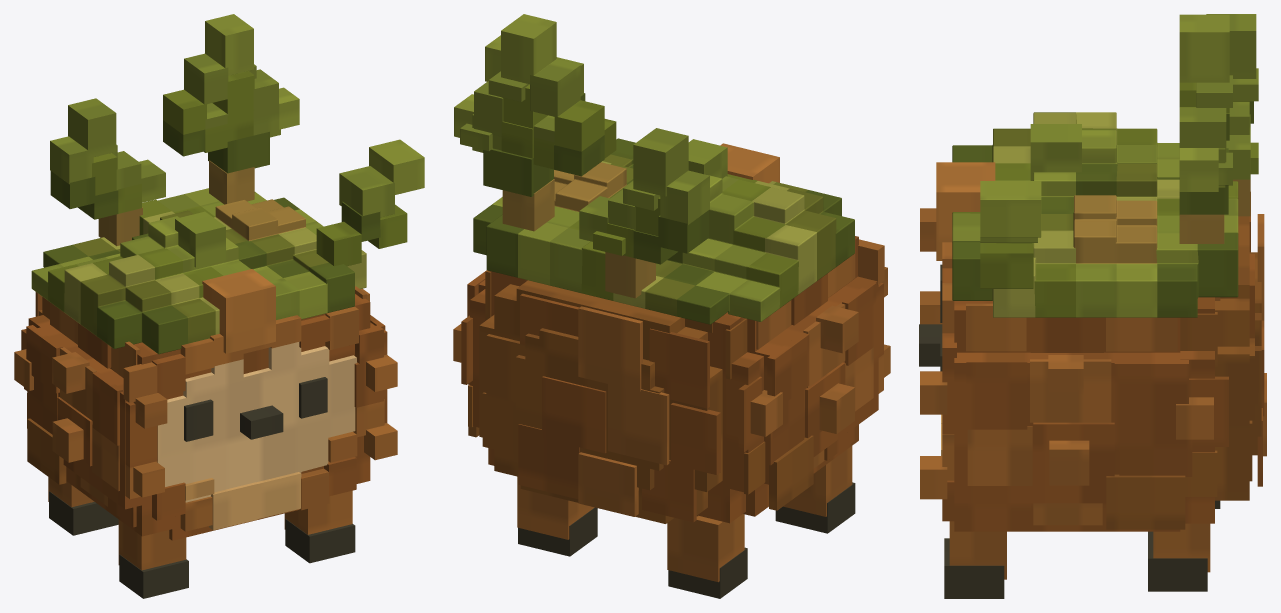
Rendered from SM_Blender_Brambit.glb.
3 renders of one model, left to right at view 1: azimuth 30°, elevation 25°; view 2: azimuth 150°, elevation 25°; view 3: azimuth 270°, elevation 25°, orthographic. The views are drawn at different scales.
Parts seen in each view (by area): view 1: SM_Blender_Brambit; view 2: SM_Blender_Brambit; view 3: SM_Blender_Brambit.
Part boxes in pixels (<box>): SM_Blender_Brambit: <box>14,14,424,598</box>; SM_Blender_Brambit: <box>453,14,890,598</box>; SM_Blender_Brambit: <box>919,14,1266,598</box>.
Bounding box in the file's own units: 0.7107 × 0.9347 × 0.523.
Materials: 1 (1 with a texture image).
